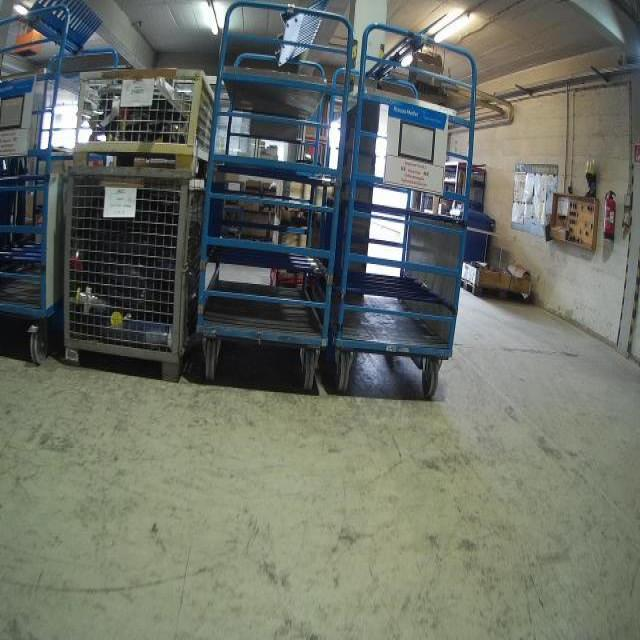pallet: (460, 276, 531, 304)
stillage: (55, 161, 212, 380), (74, 63, 220, 175)
